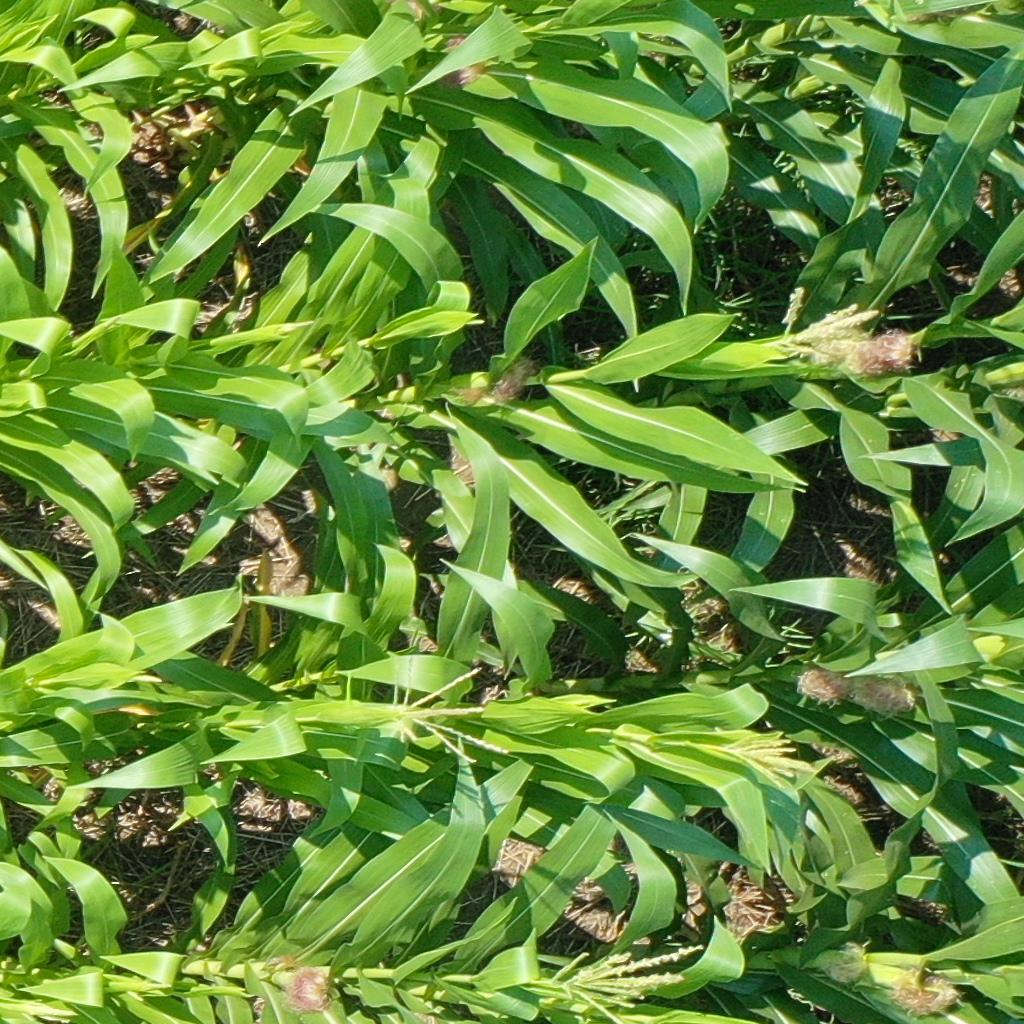Tassel: (380, 647, 509, 771), (534, 943, 704, 1024), (775, 290, 887, 372), (724, 731, 817, 793), (111, 979, 178, 1003), (12, 1001, 79, 1024)
